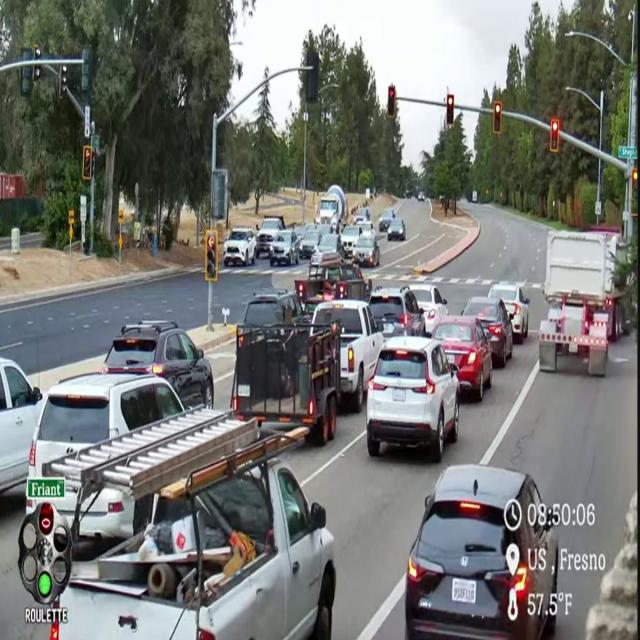car: (405, 464, 561, 639), (29, 373, 184, 477), (366, 337, 459, 462), (102, 321, 214, 407), (0, 359, 42, 493), (433, 316, 492, 401), (462, 296, 513, 367), (369, 286, 424, 337), (489, 284, 529, 343), (242, 289, 303, 326), (410, 284, 448, 334), (223, 227, 256, 266), (256, 216, 285, 257), (270, 230, 299, 266), (353, 237, 380, 266), (314, 233, 344, 258), (340, 225, 362, 257), (300, 228, 321, 258), (387, 217, 406, 240), (379, 208, 395, 232), (293, 223, 315, 239), (357, 221, 375, 238), (316, 224, 333, 236), (356, 207, 370, 221), (418, 191, 426, 202)
traffic signal: (204, 229, 218, 282), (306, 51, 319, 103), (81, 46, 90, 92), (20, 66, 32, 96), (82, 145, 92, 181), (549, 119, 559, 153), (387, 85, 396, 119), (493, 101, 502, 135), (59, 65, 67, 99), (446, 94, 454, 126), (32, 64, 41, 81), (632, 168, 637, 188)
truck: (44, 409, 335, 639), (231, 322, 340, 446), (539, 232, 627, 375), (312, 300, 384, 413), (294, 254, 372, 318), (316, 184, 346, 232), (256, 216, 285, 257)
